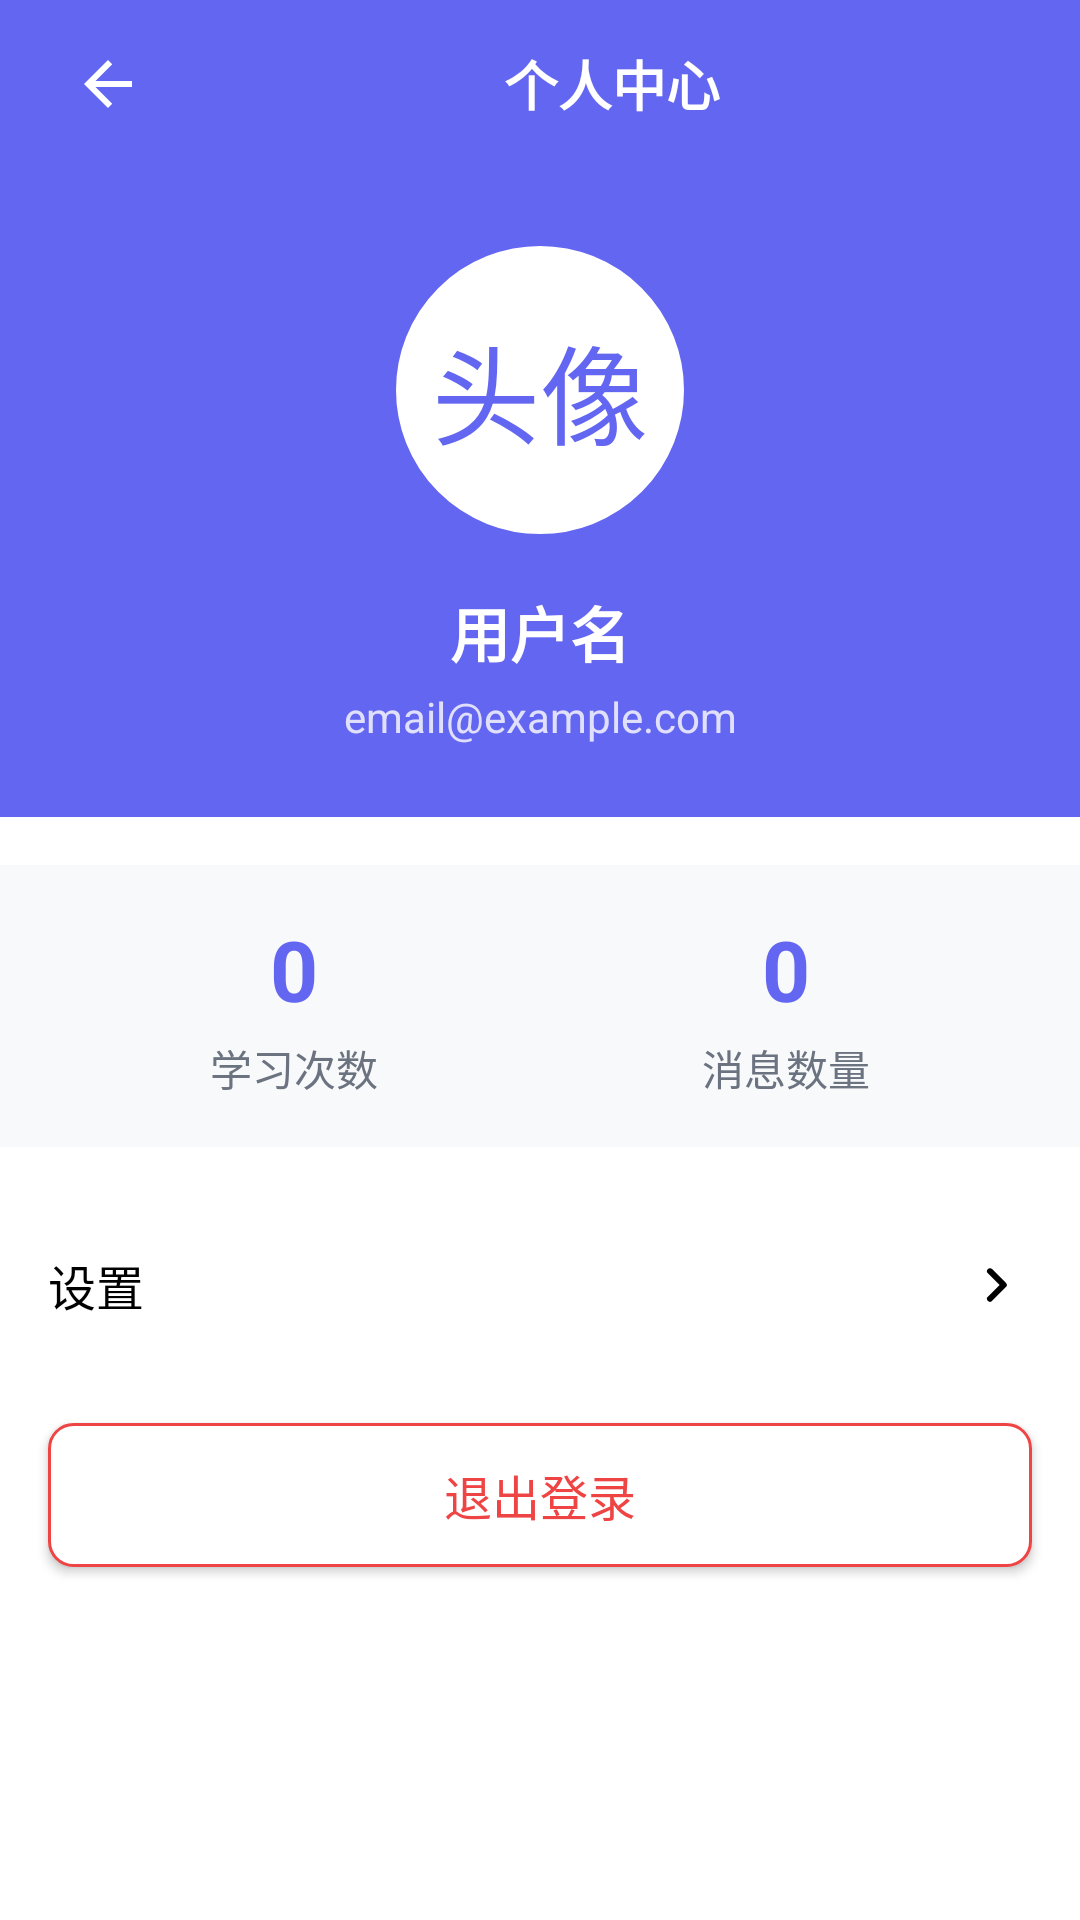

Icon bounding boxes for this 1080px x 1920px phone screenshot, format Rect(x1, y1, x2, y2):
arrow right: Rect(986, 1268, 1007, 1302)
返回: Rect(84, 60, 132, 108)
